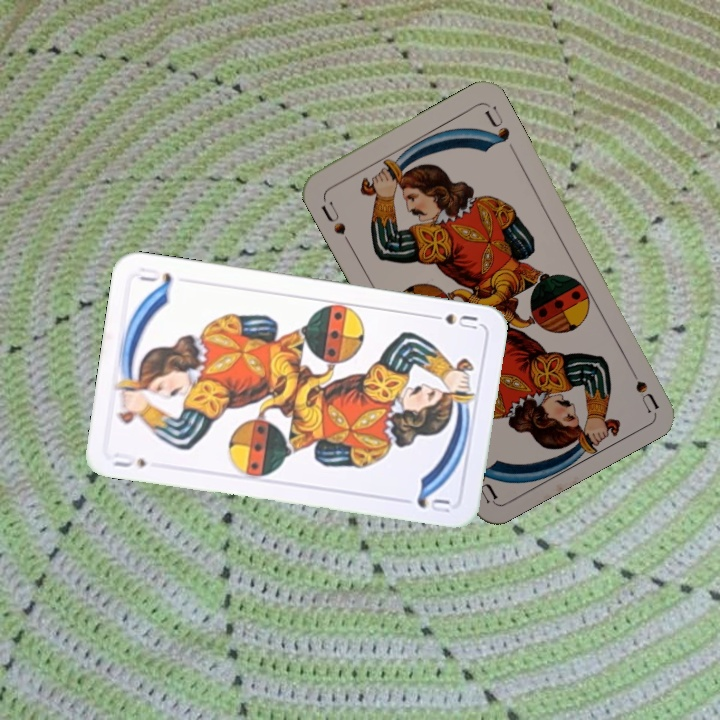SU: (622, 357, 661, 414), (316, 197, 354, 248), (423, 310, 480, 332), (109, 448, 149, 470)
